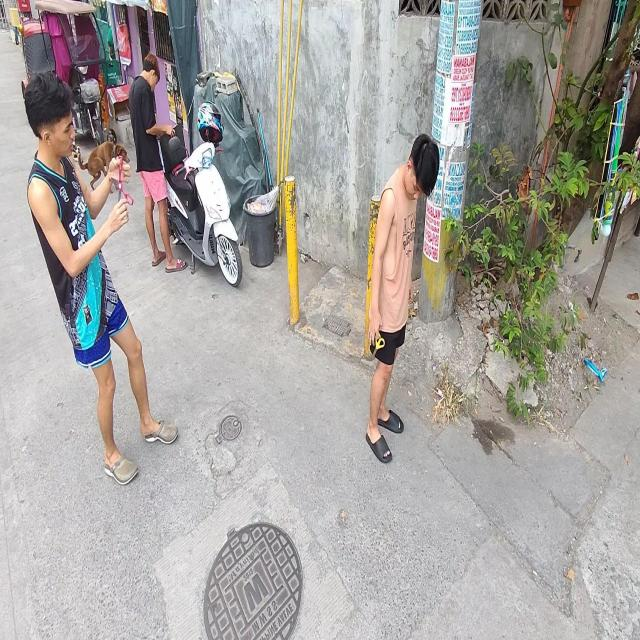scissor: (111, 156, 133, 205), (373, 333, 385, 359)
